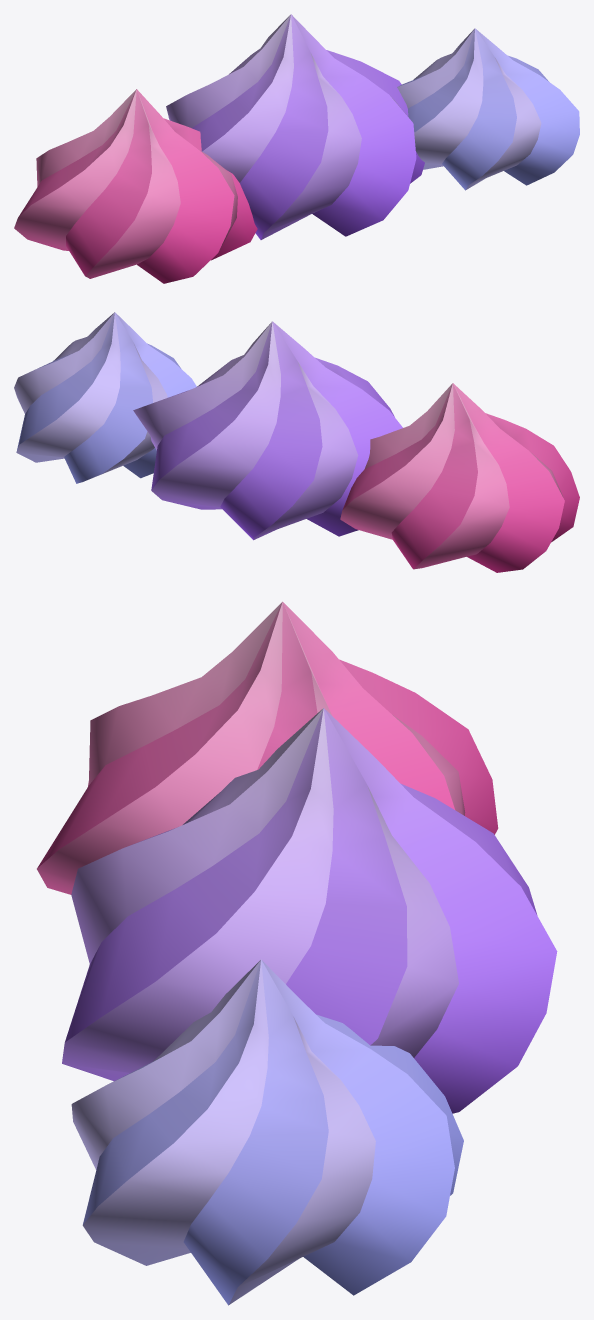
The model's file is Cream_Triple_02.fbx.
3 renders of one model, top to bottom at view 1: azimuth 30°, elevation 25°; view 2: azimuth 150°, elevation 25°; view 3: azimuth 270°, elevation 25°, orthographic. The views are drawn at different scales.
Visible parts, largest first — view 1: Cream_Triple_02; view 2: Cream_Triple_02; view 3: Cream_Triple_02.
Boxes of the visible parts, bbox=[...] form: Cream_Triple_02: bbox=[14, 14, 579, 283]; Cream_Triple_02: bbox=[14, 312, 579, 572]; Cream_Triple_02: bbox=[37, 601, 557, 1305].
Size of the model in its own units: 566 by 187 by 238.
